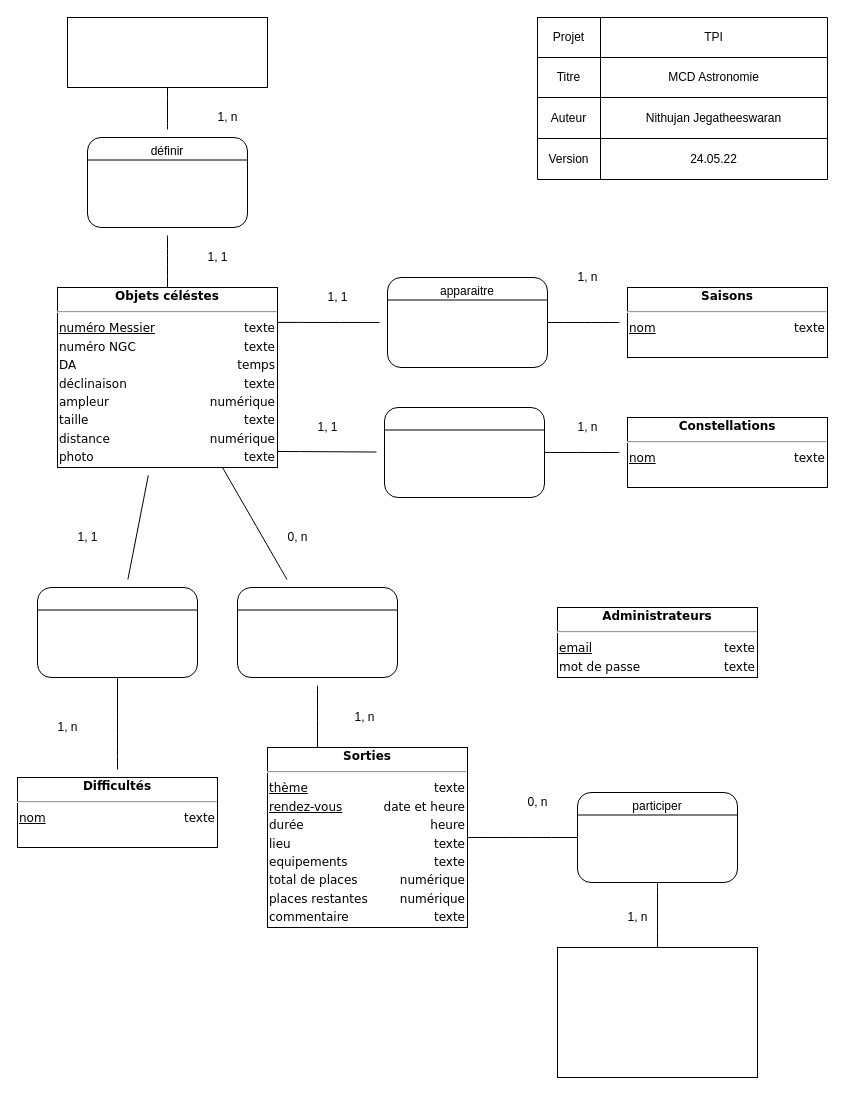
Image size: 845x1095. Some labels were removed from this diagram. Here are the shapes that lost their labels. From the top down, the centre of each, then its label:
point (167, 52): Types nom texte
point (464, 452): appartenir
point (117, 632): caractériser
point (317, 632): concerner
point (657, 1012): Utilisateurs prénom texte nom texte âge numérique email texte téléphone texte
